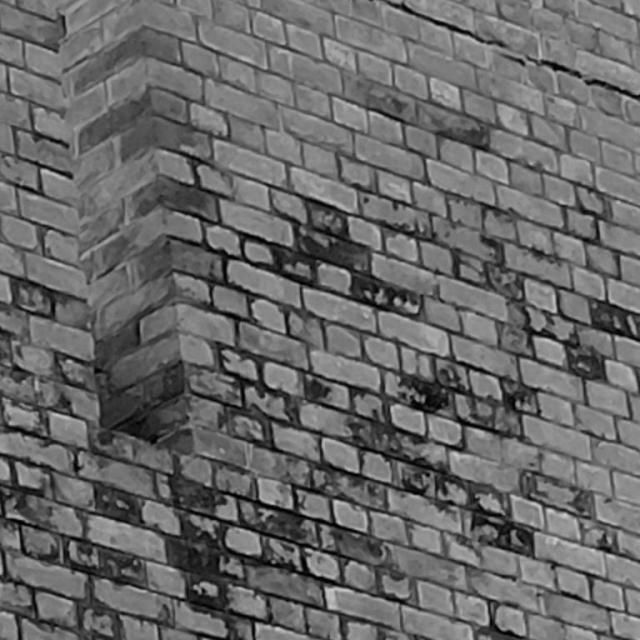crack: (383, 1, 640, 100)
